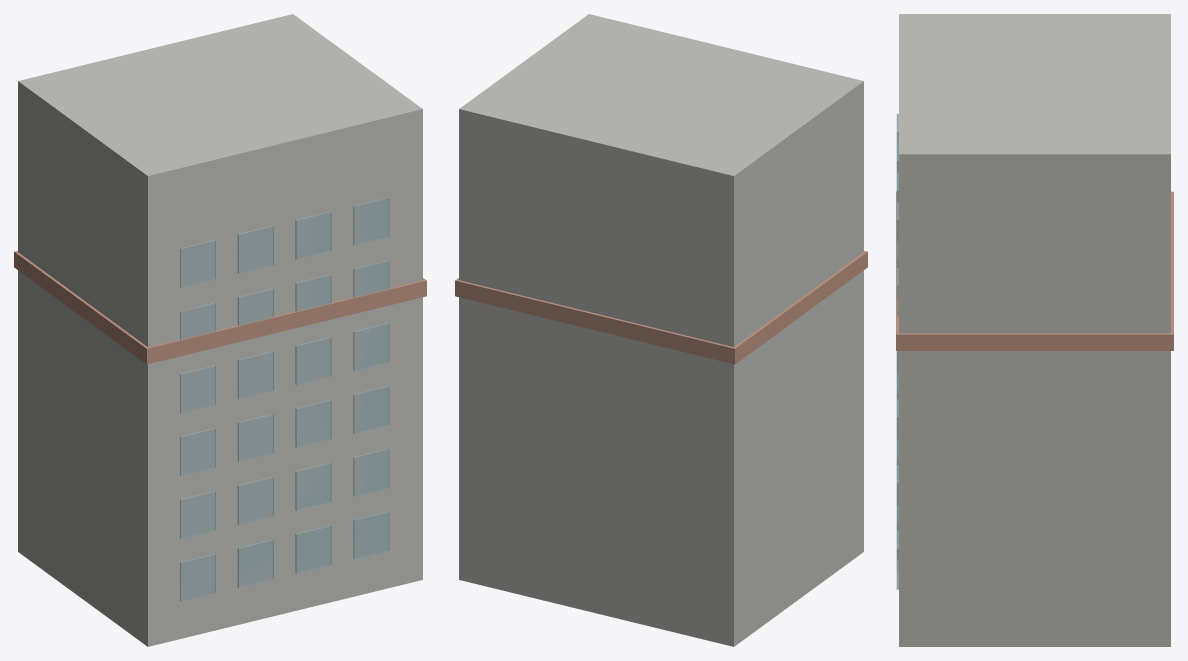
The model's file is building_med_01.glb.
3 views of the same model, side by side, from view 1: azimuth 30°, elevation 25°; view 2: azimuth 150°, elevation 25°; view 3: azimuth 270°, elevation 25° (orthographic). The views are drawn at different scales.
Parts seen in each view (by area): view 1: Mass.003, Band, Win_0_3, Win_1_3, Win_0_1.003, Win_2_3, Win_5_3, Win_0_2.003, Win_2_2.003, Win_3_3, Win_1_2.003, Win_3_1.001 (+14 smaller); view 2: Mass.003, Band; view 3: Mass.003, Band.
Part boxes in pixels (x1,y1,x2,y2): Mass.003: [18, 14, 422, 646]; Band: [14, 251, 426, 364]; Win_0_3: [353, 511, 389, 559]; Win_1_3: [353, 448, 389, 496]; Win_0_1.003: [237, 539, 273, 587]; Win_2_3: [353, 385, 389, 433]; Win_5_3: [353, 197, 389, 245]; Win_0_2.003: [295, 525, 331, 573]; Win_2_2.003: [295, 399, 331, 448]; Win_3_3: [353, 323, 389, 371]; Win_1_2.003: [295, 462, 331, 510]; Win_3_1.001: [237, 351, 273, 399]; Mass.003: [459, 14, 863, 646]; Band: [455, 251, 867, 364]; Mass.003: [899, 14, 1170, 646]; Band: [896, 191, 1173, 350].
Size of the model in its own units: 11.2 by 18 by 9.2.
